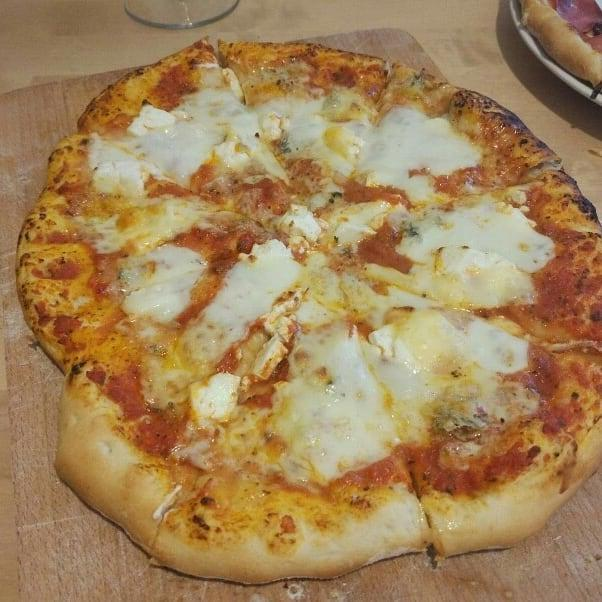Cheese: (193, 246, 293, 372), (416, 209, 545, 300), (288, 107, 474, 168), (282, 351, 376, 468), (377, 318, 526, 375), (139, 108, 259, 157), (128, 255, 195, 310)
Pizza: (19, 44, 602, 585)
